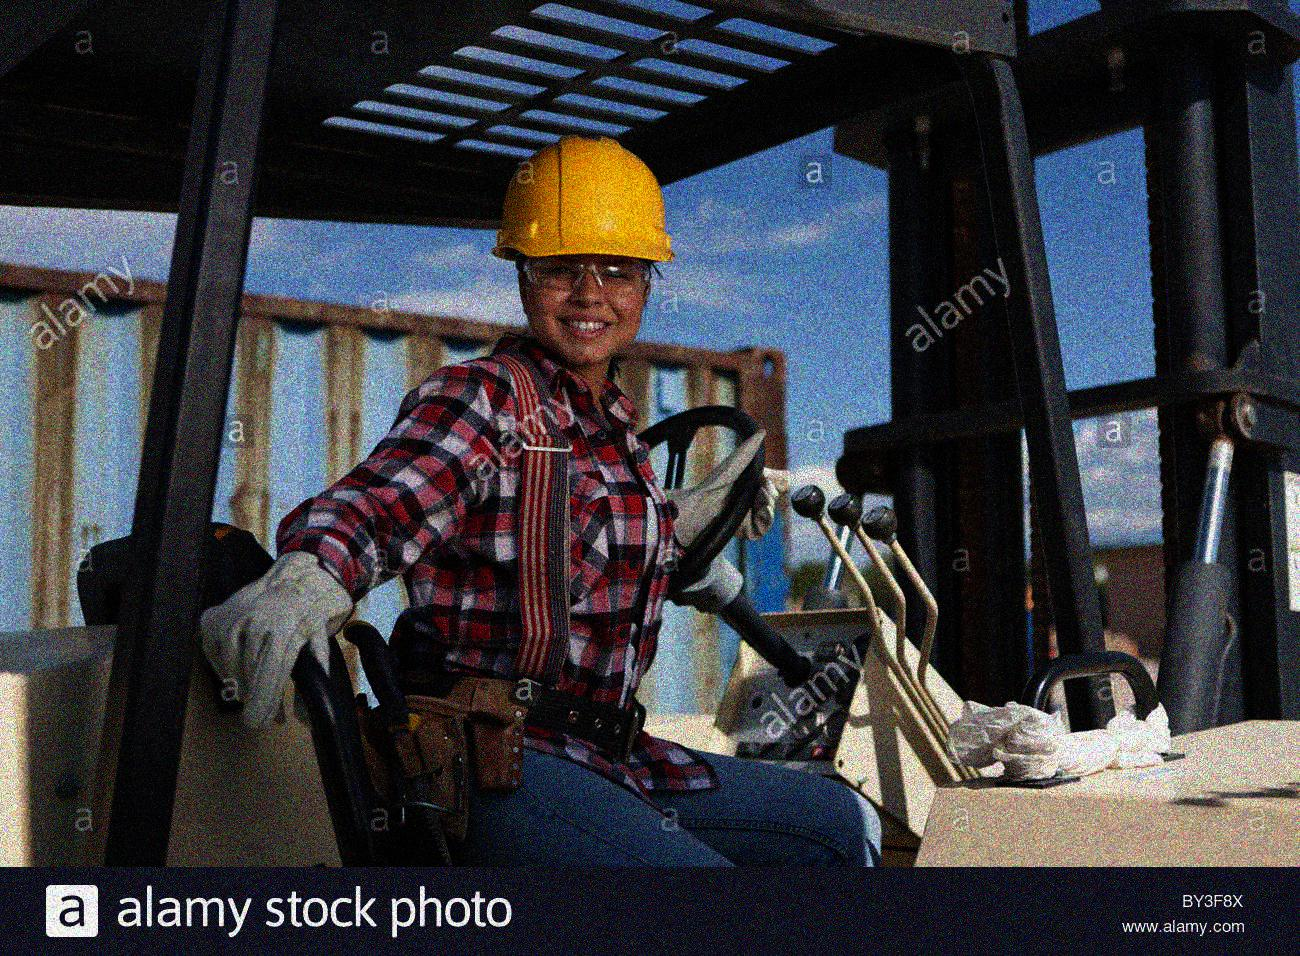helmet: (496, 127, 678, 370)
